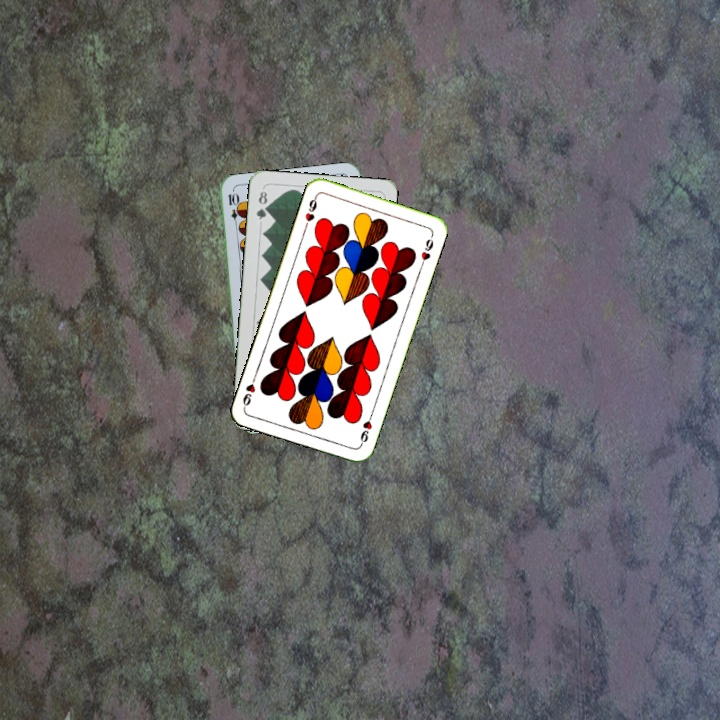E10: (224, 189, 241, 230)
G8: (252, 187, 270, 222)
H9: (356, 409, 376, 449), (301, 191, 320, 231)
